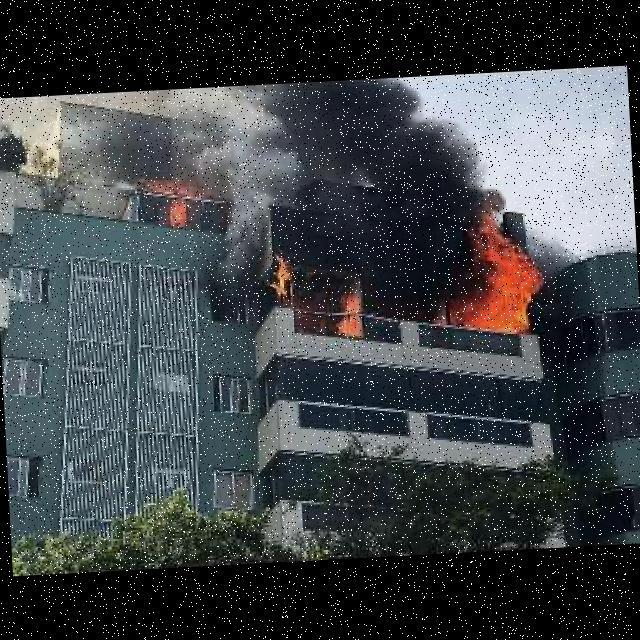Fire: (444, 222, 553, 329), (147, 184, 199, 225), (261, 256, 291, 295), (335, 294, 359, 331)
Smoke: (252, 69, 540, 247), (186, 86, 262, 311), (38, 87, 193, 195), (532, 232, 597, 323)
